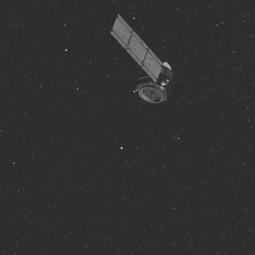earth_observation_sat_1: (105, 15, 188, 116)
